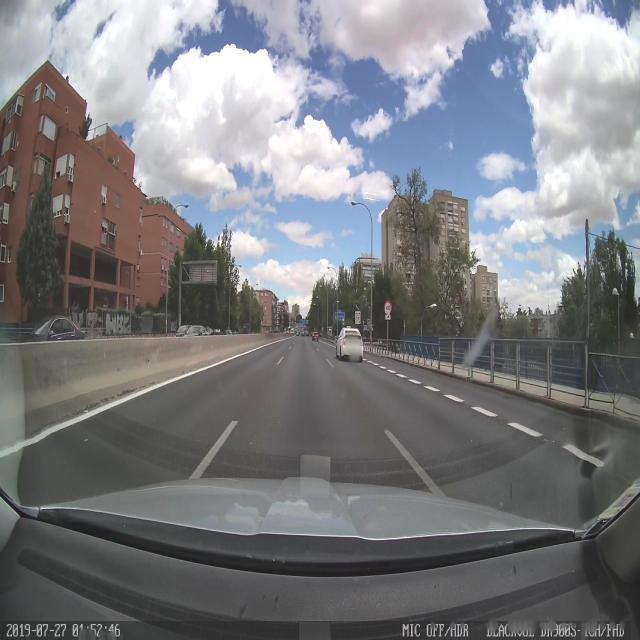car: (28, 316, 85, 341), (335, 328, 363, 362), (190, 324, 205, 336), (176, 325, 190, 336), (312, 333, 319, 343)
